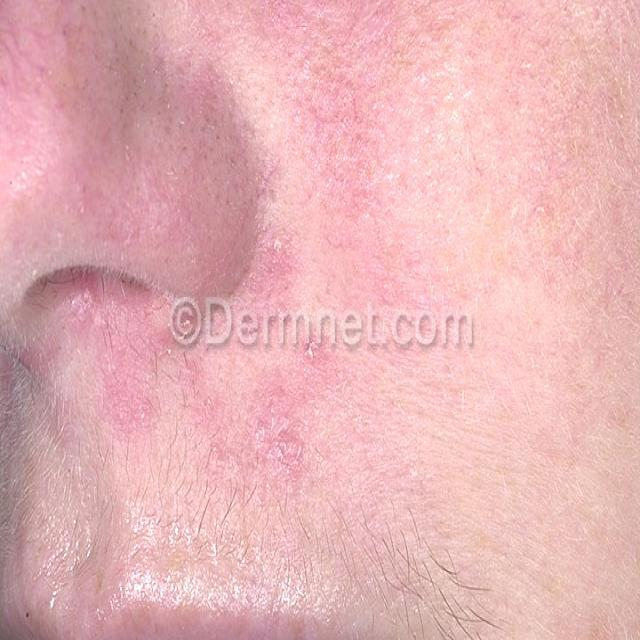Rosacea: (0, 0, 390, 469)
